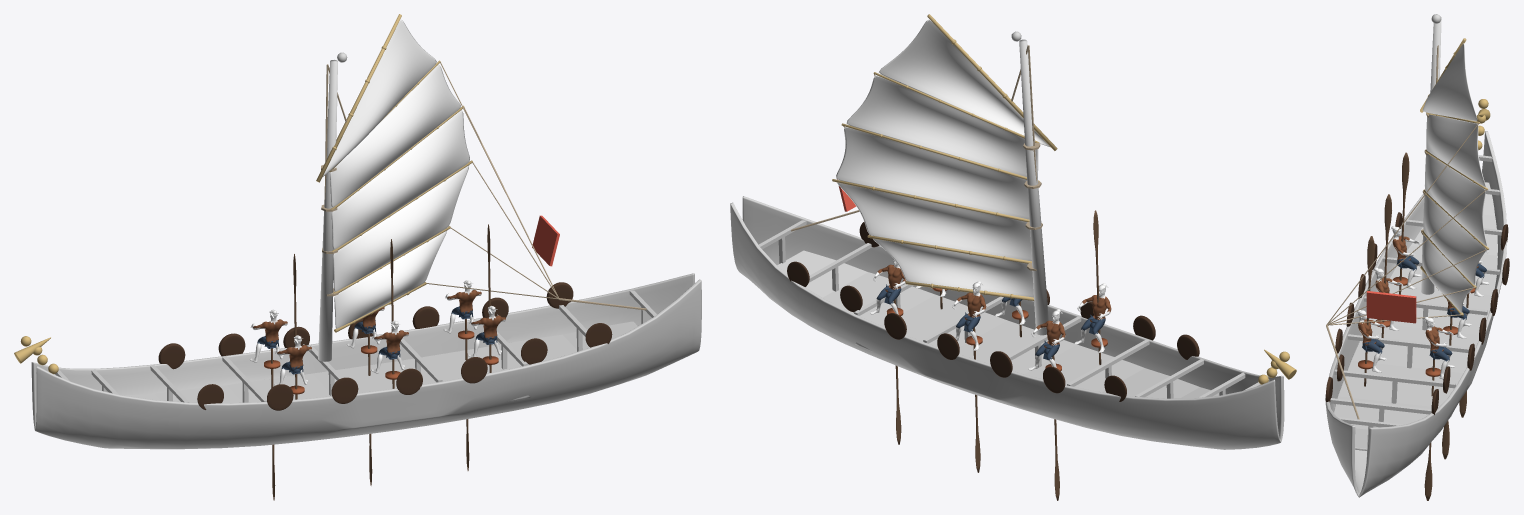
Rendered from thuyen_daiviet_master.glb.
3 renders of one model, left to right at view 1: azimuth 30°, elevation 25°; view 2: azimuth 150°, elevation 25°; view 3: azimuth 270°, elevation 25°, orthographic. The views are drawn at different scales.
Visible parts, largest first — view 1: Than_Thuyen_GoLim_Export.001, Mui_Buom_CanhDoi_PBR_Export.001, Khien_May_SonThen_Export.001, San_Boong_Thuyen_Export.001, Khung_Suon_ChiuLuc_Export.001, Cot_Buom_GoLim_Export.001, Nan_Tre_Va_Ngong_Buom_Export.001, Day_Leo_Va_Rigging_Export.001, CoLenh_NguHanh_Master_Export.001, Soldier_Body_1.001, Soldier_Body_0.001, Soldier_Body_5.001 (+2 smaller); view 2: Mui_Buom_CanhDoi_PBR_Export.001, Than_Thuyen_GoLim_Export.001, San_Boong_Thuyen_Export.001, Khien_May_SonThen_Export.001, Khung_Suon_ChiuLuc_Export.001, Nan_Tre_Va_Ngong_Buom_Export.001, Cot_Buom_GoLim_Export.001, Soldier_Body_2.001, Soldier_Body_4.001, Soldier_Body_5.001, Day_Leo_Va_Rigging_Export.001, Soldier_Body_3.001 (+1 smaller); view 3: Mui_Buom_CanhDoi_PBR_Export.001, San_Boong_Thuyen_Export.001, Than_Thuyen_GoLim_Export.001, Khung_Suon_ChiuLuc_Export.001, Khien_May_SonThen_Export.001, Day_Leo_Va_Rigging_Export.001, CoLenh_NguHanh_Master_Export.001, Nan_Tre_Va_Ngong_Buom_Export.001, Cot_Buom_GoLim_Export.001, Soldier_Body_3.001, Soldier_Body_0.001, Soldier_Body_2.001 (+9 smaller).
Boxes of the visible parts, x1,y1,x2,y2 form: Than_Thuyen_GoLim_Export.001: (31,273,701,449); Mui_Buom_CanhDoi_PBR_Export.001: (322,19,469,328); Khien_May_SonThen_Export.001: (158,282,612,410); San_Boong_Thuyen_Export.001: (124,321,637,403); Khung_Suon_ChiuLuc_Export.001: (55,290,656,402); Cot_Buom_GoLim_Export.001: (318,52,347,361); Nan_Tre_Va_Ngong_Buom_Export.001: (316,14,472,332); Day_Leo_Va_Rigging_Export.001: (321,62,646,310); CoLenh_NguHanh_Master_Export.001: (532,215,559,266); Soldier_Body_1.001: (371,320,408,373); Soldier_Body_0.001: (468,305,505,357); Soldier_Body_5.001: (249,309,287,362); Mui_Buom_CanhDoi_PBR_Export.001: (836,19,1050,297); Than_Thuyen_GoLim_Export.001: (730,196,1284,449); San_Boong_Thuyen_Export.001: (777,250,1219,398); Khien_May_SonThen_Export.001: (787,222,1199,401); Khung_Suon_ChiuLuc_Export.001: (759,220,1269,398); Nan_Tre_Va_Ngong_Buom_Export.001: (832,14,1057,300); Cot_Buom_GoLim_Export.001: (1011,31,1048,335); Soldier_Body_2.001: (1074,283,1111,352); Soldier_Body_4.001: (952,281,986,350); Soldier_Body_5.001: (1028,309,1065,370); Day_Leo_Va_Rigging_Export.001: (791,45,1042,282); Soldier_Body_3.001: (870,259,905,314); Mui_Buom_CanhDoi_PBR_Export.001: (1422,43,1486,312); San_Boong_Thuyen_Export.001: (1334,182,1497,450); Than_Thuyen_GoLim_Export.001: (1325,131,1506,497); Khung_Suon_ChiuLuc_Export.001: (1330,155,1502,459); Khien_May_SonThen_Export.001: (1325,212,1509,414); Day_Leo_Va_Rigging_Export.001: (1326,45,1487,419); CoLenh_NguHanh_Master_Export.001: (1366,291,1416,323); Nan_Tre_Va_Ngong_Buom_Export.001: (1420,38,1488,315); Cot_Buom_GoLim_Export.001: (1421,14,1441,294); Soldier_Body_3.001: (1423,317,1454,379); Soldier_Body_0.001: (1356,309,1386,372); Soldier_Body_2.001: (1390,226,1421,289).
Size of the model in its own units: 14.38 by 10.07 by 3.82.
